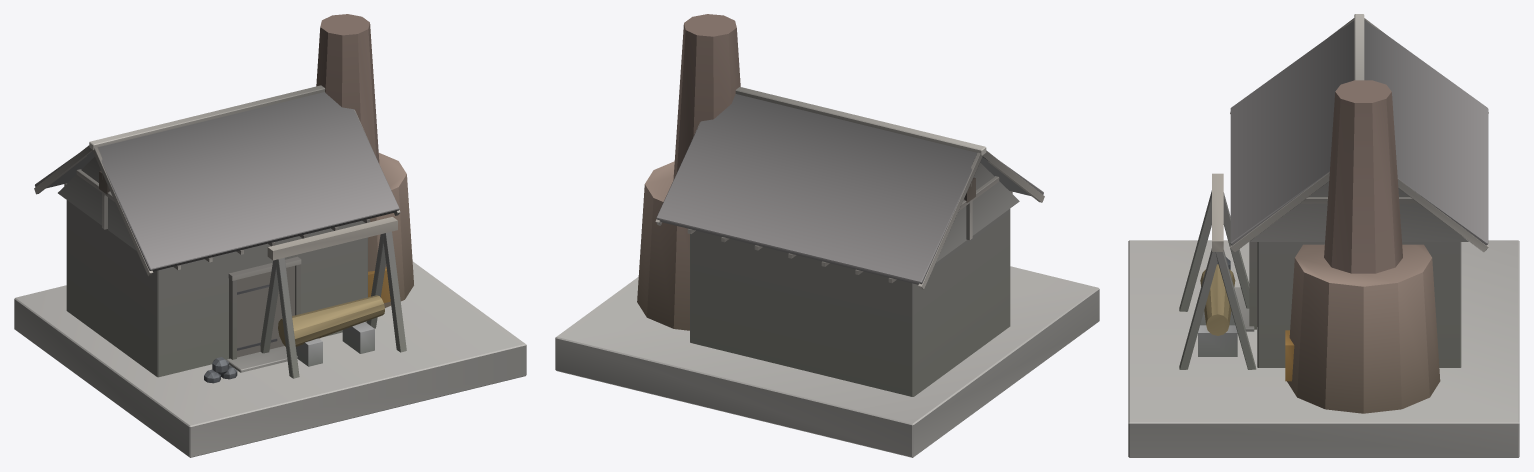
Rendered from gun_foundry_l1_lod0.glb.
The picture shows the model from 3 angles, left to right: view 1: azimuth 30°, elevation 25°; view 2: azimuth 150°, elevation 25°; view 3: azimuth 270°, elevation 25°; orthographic projection. The views are drawn at different scales.
Visible parts, largest first — view 1: gun_foundry_l1_lod0; view 2: gun_foundry_l1_lod0; view 3: gun_foundry_l1_lod0.
Boxes of the visible parts, <box> form: gun_foundry_l1_lod0: <box>14,14,526,457</box>; gun_foundry_l1_lod0: <box>555,14,1099,457</box>; gun_foundry_l1_lod0: <box>1128,14,1519,457</box>.
Bounding box in the file's own units: 10.4 × 8.63 × 9.4.
